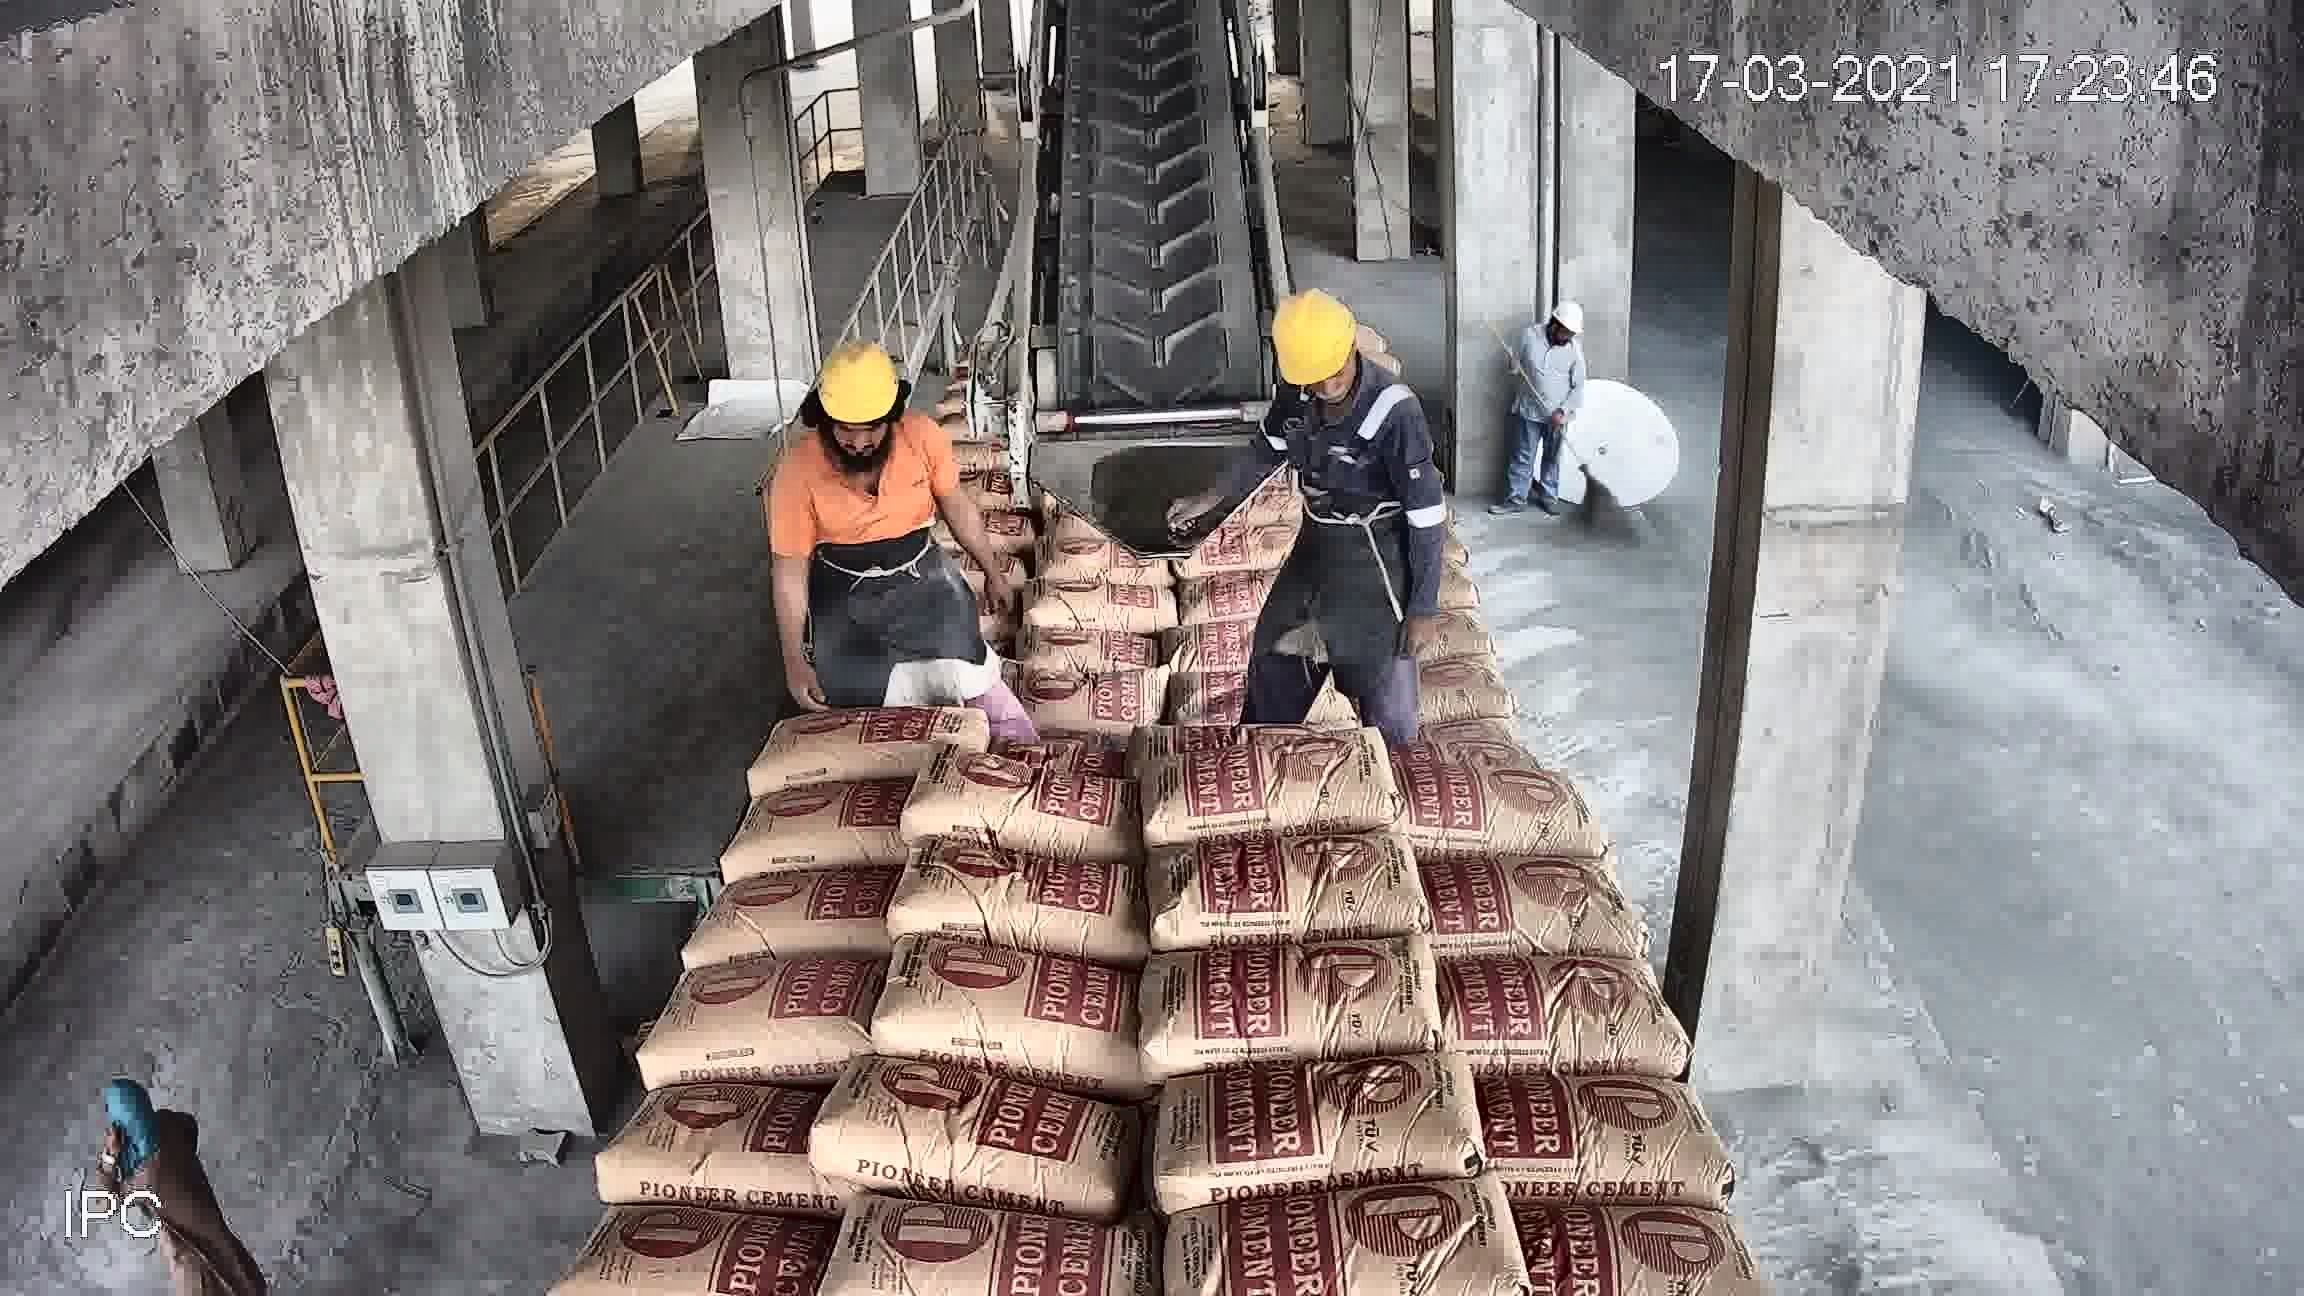bag: (1055, 17, 1252, 348), (1127, 320, 1275, 426)
bag_h: (1119, 1055, 1473, 1214), (1146, 1177, 1537, 1296), (801, 1076, 1124, 1207), (1128, 934, 1438, 1068), (567, 1071, 818, 1223), (1419, 954, 1665, 1089), (1378, 851, 1635, 976), (1146, 824, 1408, 946), (1459, 1079, 1722, 1201), (623, 956, 870, 1079), (864, 934, 1112, 1052), (1143, 720, 1385, 836), (804, 1209, 1124, 1296), (548, 1195, 804, 1290), (1538, 1187, 1755, 1296), (1114, 668, 1385, 755), (1165, 582, 1389, 687), (1374, 767, 1601, 870), (918, 755, 1135, 850), (878, 869, 1147, 945), (699, 869, 892, 964), (736, 699, 908, 805), (728, 771, 889, 878), (929, 680, 1131, 763), (1374, 676, 1552, 767), (1173, 530, 1358, 619), (771, 647, 956, 725), (980, 612, 1150, 696), (961, 510, 1161, 578), (821, 513, 973, 598), (1141, 491, 1328, 557), (1367, 623, 1532, 690), (961, 570, 1146, 627), (1331, 516, 1491, 578), (810, 582, 964, 642), (1374, 565, 1525, 625), (1320, 434, 1457, 491), (1298, 411, 1423, 464), (1065, 446, 1179, 503), (1055, 423, 1161, 468), (1074, 380, 1165, 434), (1304, 389, 1412, 434), (1293, 366, 1407, 407), (1294, 347, 1407, 388), (1359, 481, 1457, 519), (1307, 318, 1389, 356)
